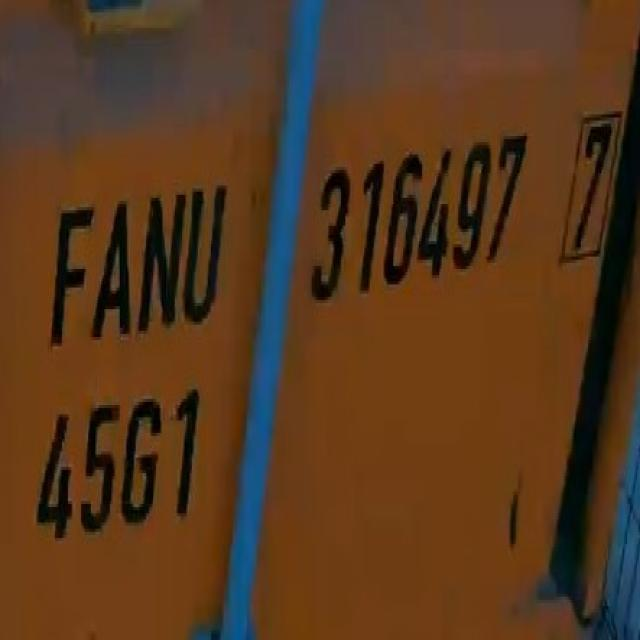dv: (562, 95, 626, 277)
owner: (40, 168, 232, 343)
serial: (303, 117, 529, 311)
size: (24, 362, 207, 556)
